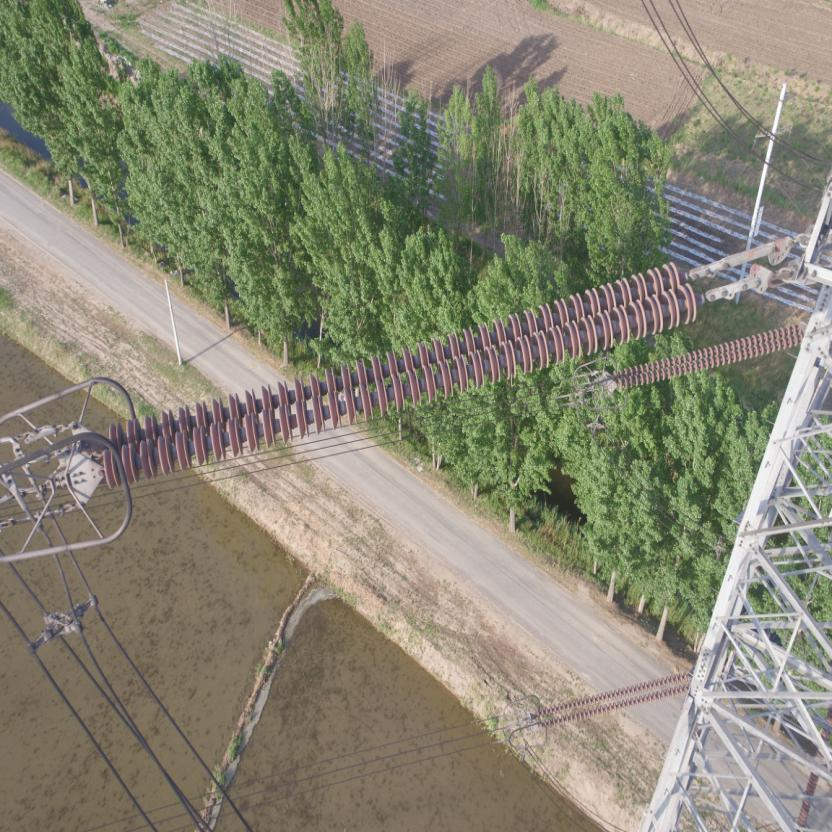insulator: (91, 255, 736, 490), (606, 322, 802, 394), (532, 668, 690, 731)
